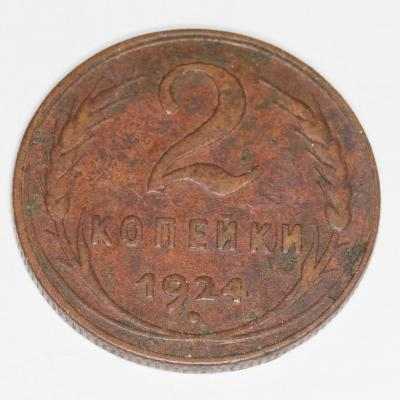numismatics: (11, 29, 381, 376)
